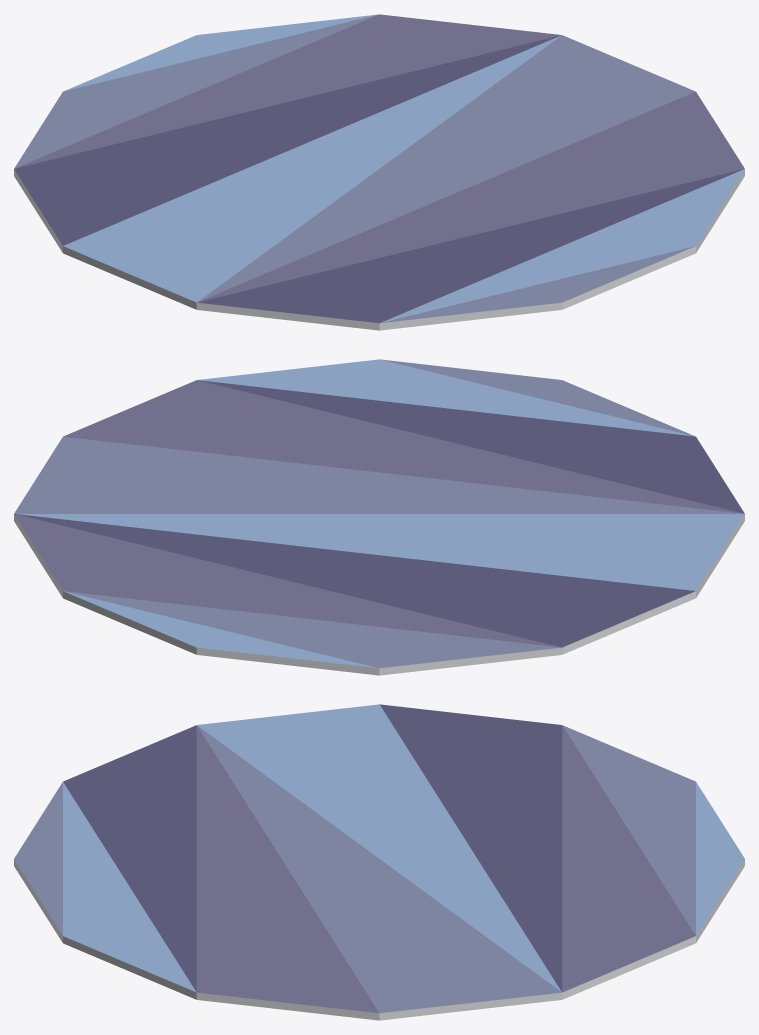
Rendered from Accesories_Circle.008.glb.
3 renders of one model, top to bottom at view 1: azimuth 30°, elevation 25°; view 2: azimuth 150°, elevation 25°; view 3: azimuth 270°, elevation 25°, orthographic.
Visible parts, largest first — view 1: Accesories_Circle.008; view 2: Accesories_Circle.008; view 3: Accesories_Circle.008.
Boxes of the visible parts, bbox=[...] form: Accesories_Circle.008: bbox=[14, 14, 744, 330]; Accesories_Circle.008: bbox=[14, 359, 744, 675]; Accesories_Circle.008: bbox=[14, 704, 744, 1020].
Bounding box in the file's own units: 3.52 × 0.0388 × 3.52.
Materials: 1 (1 with a texture image).
